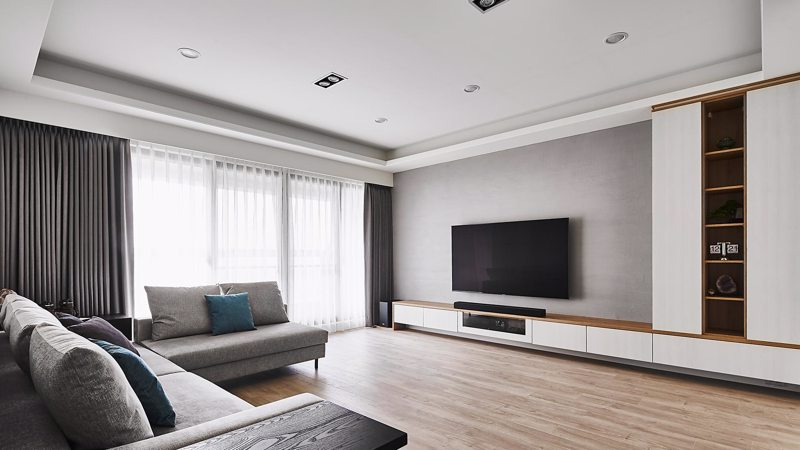sofa: (2, 283, 324, 450), (94, 281, 328, 379)
table: (172, 399, 409, 450)
tv: (449, 218, 574, 298)
